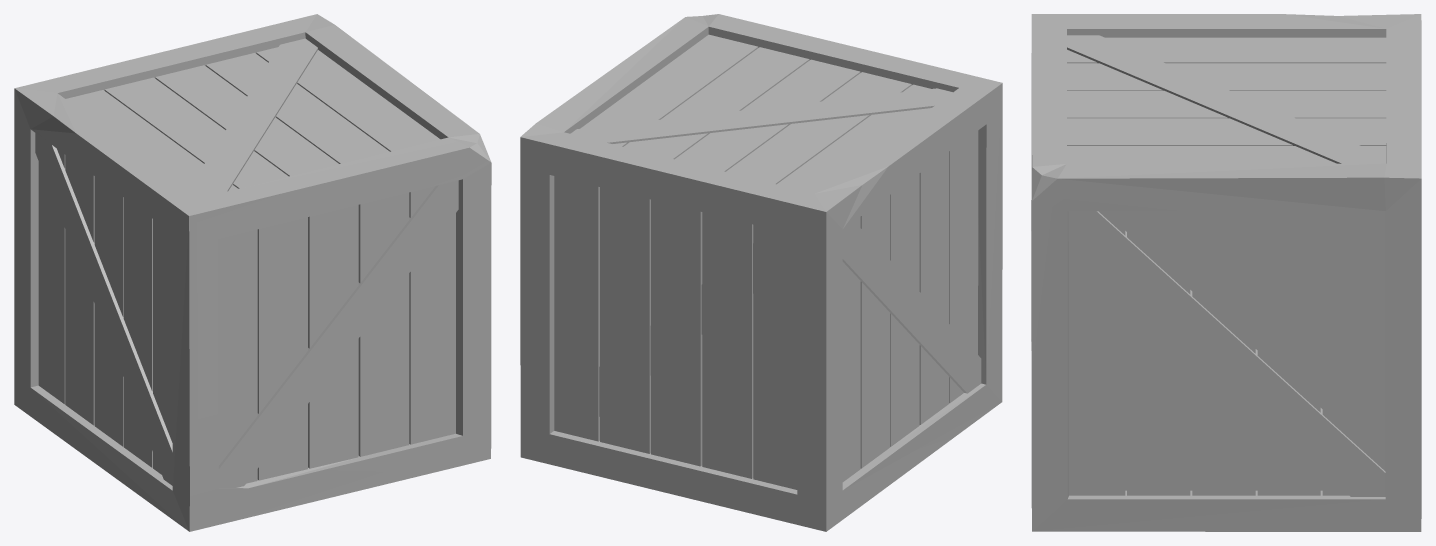
3 renders of one model, left to right at view 1: azimuth 30°, elevation 25°; view 2: azimuth 150°, elevation 25°; view 3: azimuth 270°, elevation 25°, orthographic. The views are drawn at different scales.
Parts seen in each view (by area): view 1: Box_02; view 2: Box_02; view 3: Box_02.
Part boxes in pixels (x1,y1,x2,y2): Box_02: (14, 14, 491, 531); Box_02: (520, 14, 1002, 531); Box_02: (1031, 14, 1421, 531).
Bounding box in the file's own units: 0.9163 × 0.9166 × 0.9132.
